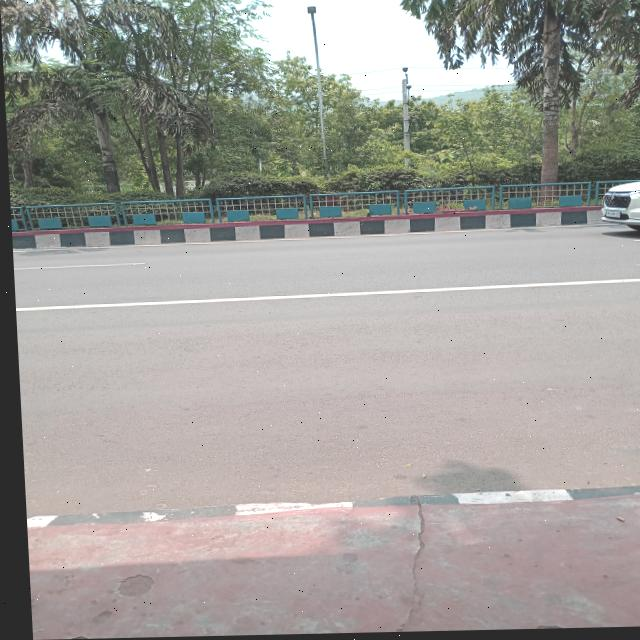car: (601, 172, 640, 245)
